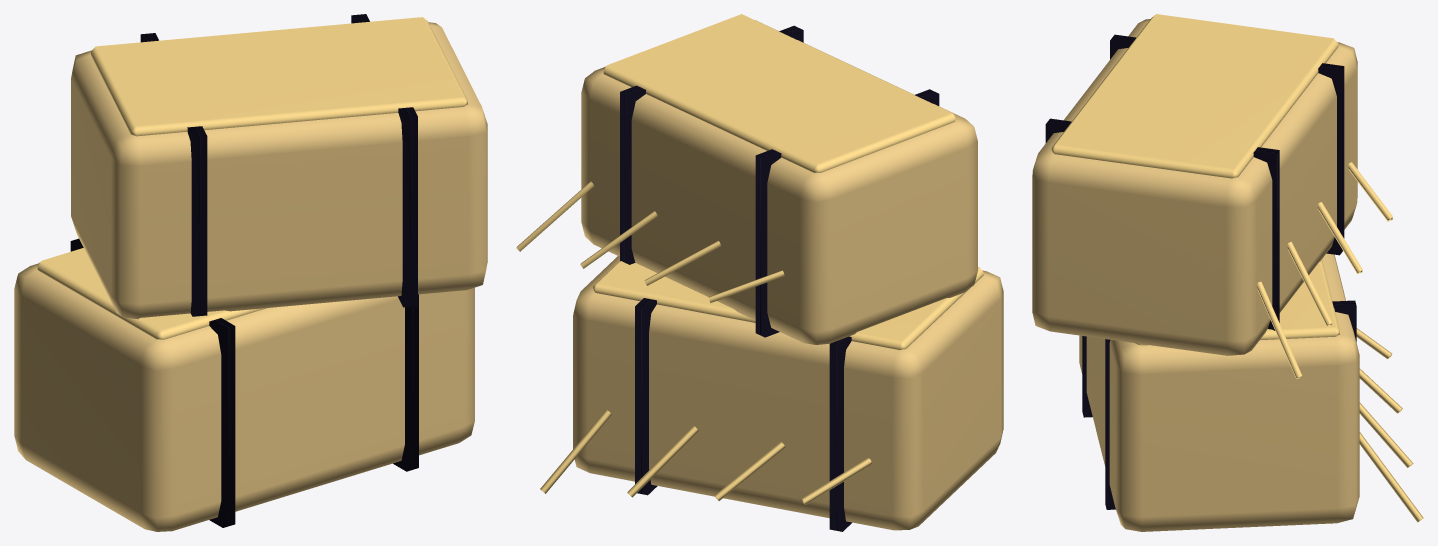
The model's file is hay_bale.glb.
3 renders of one model, left to right at view 1: azimuth 30°, elevation 25°; view 2: azimuth 150°, elevation 25°; view 3: azimuth 270°, elevation 25°, orthographic. The views are drawn at different scales.
Parts seen in each view (by area): view 1: Bales; view 2: Bales; view 3: Bales.
Part boxes in pixels (bbox=[...]): Bales: bbox=[14, 14, 487, 531]; Bales: bbox=[516, 14, 1003, 531]; Bales: bbox=[1032, 14, 1423, 531].
Size of the model in its own units: 0.9855 by 0.841 by 0.7975.
